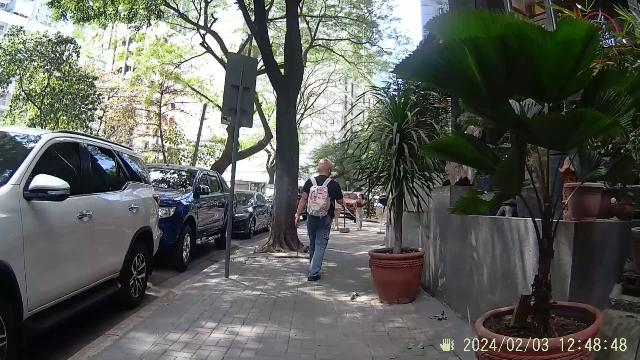potted_plant: (464, 287, 604, 351), (564, 150, 606, 231), (368, 248, 424, 305)
street_sign: (221, 48, 259, 292)
tree: (272, 57, 308, 255)
